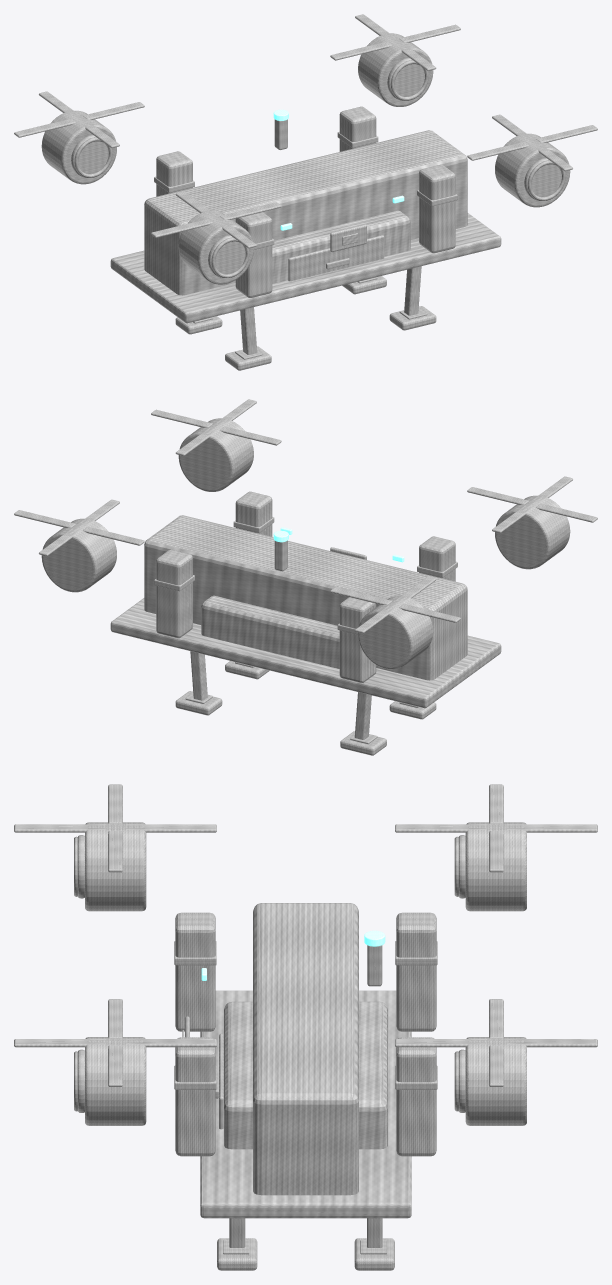
File: drone_variant_c.glb
3 renders of one model, top to bottom at view 1: azimuth 30°, elevation 25°; view 2: azimuth 150°, elevation 25°; view 3: azimuth 270°, elevation 25°, orthographic. The views are drawn at different scales.
Parts seen in each view (by area): view 1: Central spine, Cargo support rails, Cargo bay shell.003, Rotor arm.009, Rotor motor pod.008, Rotor motor pod.009, Rotor motor pod.011, Rotor motor pod.010, Rotor arm.008, Cargo bay access panel.003, Rotor arm.011, Rotor arm.010 (+10 smaller); view 2: Central spine, Cargo support rails, Cargo bay shell.003, Rotor motor pod.010, Rotor motor pod.008, Rotor motor pod.011, Rotor motor pod.009, Rotor arm.011, Rotor arm.010, Rotor arm.009, Rotor arm.008, Landing strut.011 (+4 smaller); view 3: Central spine, Cargo support rails, Cargo bay shell.003, Rotor motor pod.008, Rotor motor pod.010, Rotor motor pod.009, Rotor motor pod.011, Rotor arm.010, Rotor arm.008, Rotor arm.009, Rotor arm.011, Landing foot.011 (+10 smaller).
Boxes of the visible parts, <box> form: Central spine: <box>144,130,467,295</box>; Cargo support rails: <box>110,213,501,323</box>; Cargo bay shell.003: <box>272,210,410,283</box>; Rotor arm.009: <box>419,164,455,253</box>; Rotor motor pod.008: <box>178,210,253,284</box>; Rotor motor pod.009: <box>495,133,570,207</box>; Rotor motor pod.011: <box>358,33,433,106</box>; Rotor motor pod.010: <box>41,110,116,184</box>; Rotor arm.008: <box>235,212,272,297</box>; Cargo bay access panel.003: <box>288,235,384,281</box>; Rotor arm.011: <box>339,106,376,151</box>; Rotor arm.010: <box>156,151,192,196</box>; Central spine: <box>144,515,467,680</box>; Cargo support rails: <box>110,598,501,708</box>; Cargo bay shell.003: <box>201,595,339,668</box>; Rotor motor pod.010: <box>358,595,433,669</box>; Rotor motor pod.008: <box>495,495,570,569</box>; Rotor motor pod.011: <box>41,518,116,592</box>; Rotor motor pod.009: <box>178,418,253,491</box>; Rotor arm.011: <box>156,549,192,638</box>; Rotor arm.010: <box>339,597,376,682</box>; Rotor arm.009: <box>235,491,272,536</box>; Rotor arm.008: <box>419,536,455,581</box>; Landing strut.011: <box>190,651,207,700</box>; Central spine: <box>253,903,358,1195</box>; Cargo support rails: <box>200,990,411,1218</box>; Cargo bay shell.003: <box>224,1001,387,1149</box>; Rotor motor pod.008: <box>85,822,146,911</box>; Rotor motor pod.010: <box>465,822,526,911</box>; Rotor motor pod.009: <box>85,1037,146,1125</box>; Rotor motor pod.011: <box>465,1037,526,1125</box>; Rotor arm.010: <box>396,912,436,1031</box>; Rotor arm.008: <box>175,912,215,1031</box>; Rotor arm.009: <box>175,1037,215,1156</box>; Rotor arm.011: <box>396,1037,436,1156</box>; Landing foot.011: <box>354,1238,394,1270</box>.
Size of what is drawn, in the model's own units: 6.72 by 2.82 by 5.52.
8 materials, 8 textured.
